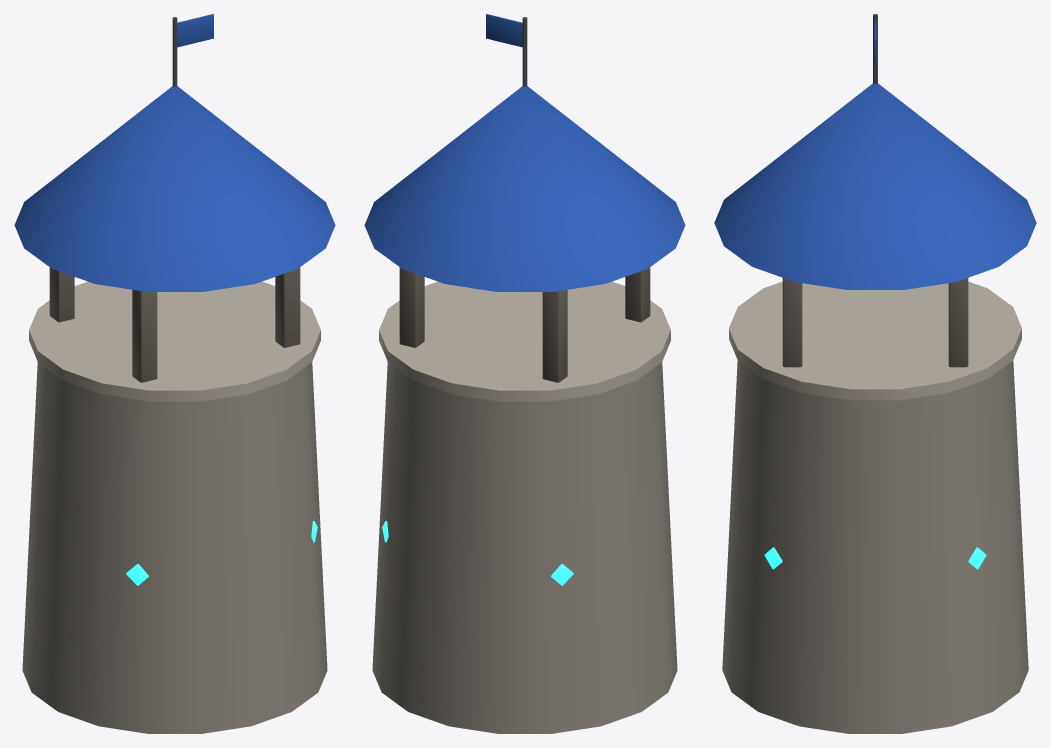
The model's file is naroznik_4.glb.
3 views of the same model, side by side, from view 1: azimuth 30°, elevation 25°; view 2: azimuth 150°, elevation 25°; view 3: azimuth 270°, elevation 25° (orthographic).
Visible parts, largest first — view 1: naroznik_4; view 2: naroznik_4; view 3: naroznik_4.
Part boxes in pixels (left/top/right/bottom): naroznik_4: left=14, top=14, right=335, bottom=733; naroznik_4: left=364, top=14, right=685, bottom=733; naroznik_4: left=714, top=14, right=1036, bottom=733.
Bounding box in the file's own units: 6.5 × 14.8 × 6.6.
